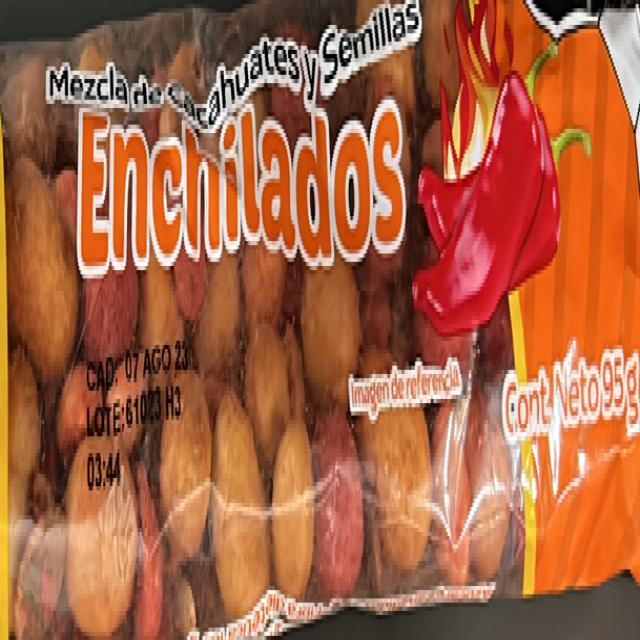bitzEnchilado95: (1, 6, 640, 573)
